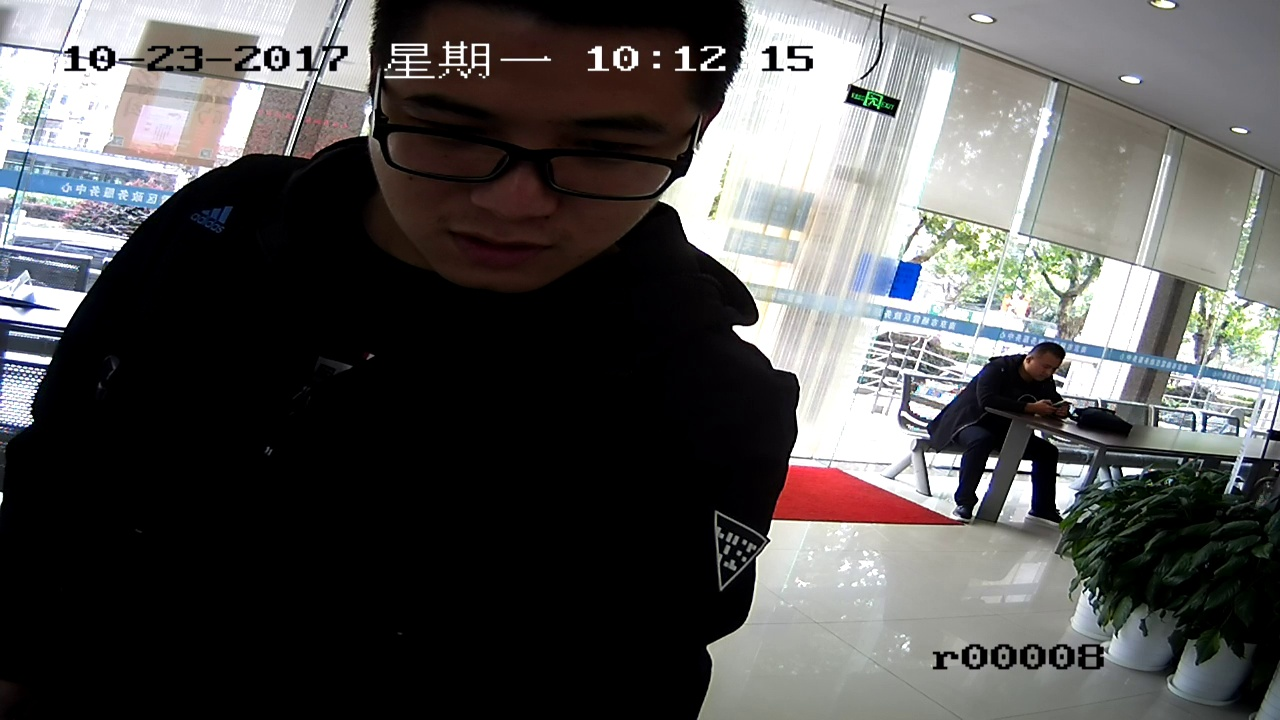chair: (886, 369, 956, 485)
person: (350, 4, 735, 415), (970, 341, 1083, 479)
pot: (1096, 469, 1210, 707)
